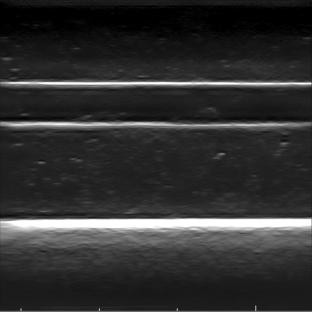vessel: (4, 78, 309, 130)
